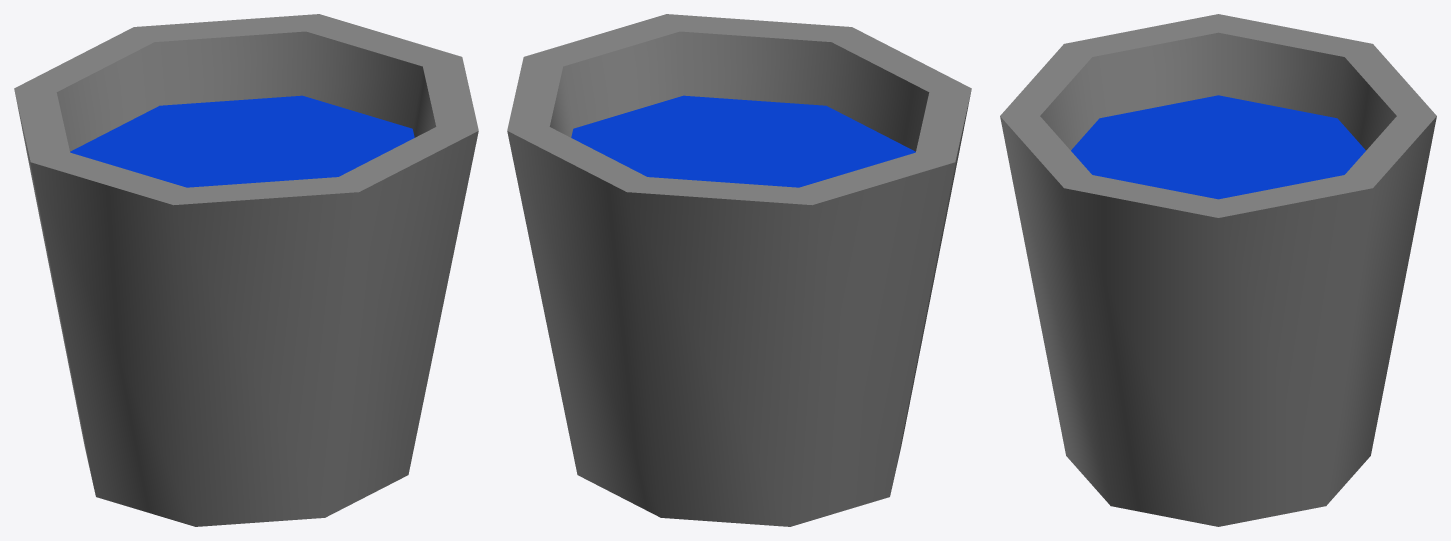
Rendered from WaterBucket.fbx.
The picture shows the model from 3 angles, left to right: view 1: azimuth 30°, elevation 25°; view 2: azimuth 150°, elevation 25°; view 3: azimuth 270°, elevation 25°; orthographic projection. The views are drawn at different scales.
Parts seen in each view (by area): view 1: WaterBucket; view 2: WaterBucket; view 3: WaterBucket.
Boxes of the visible parts, box(x1,y1,x2,y2) form: WaterBucket: box(14, 14, 478, 526); WaterBucket: box(507, 14, 971, 526); WaterBucket: box(1000, 14, 1436, 526).
Bounding box in the file's own units: 0.6005 × 0.4662 × 0.5434.
